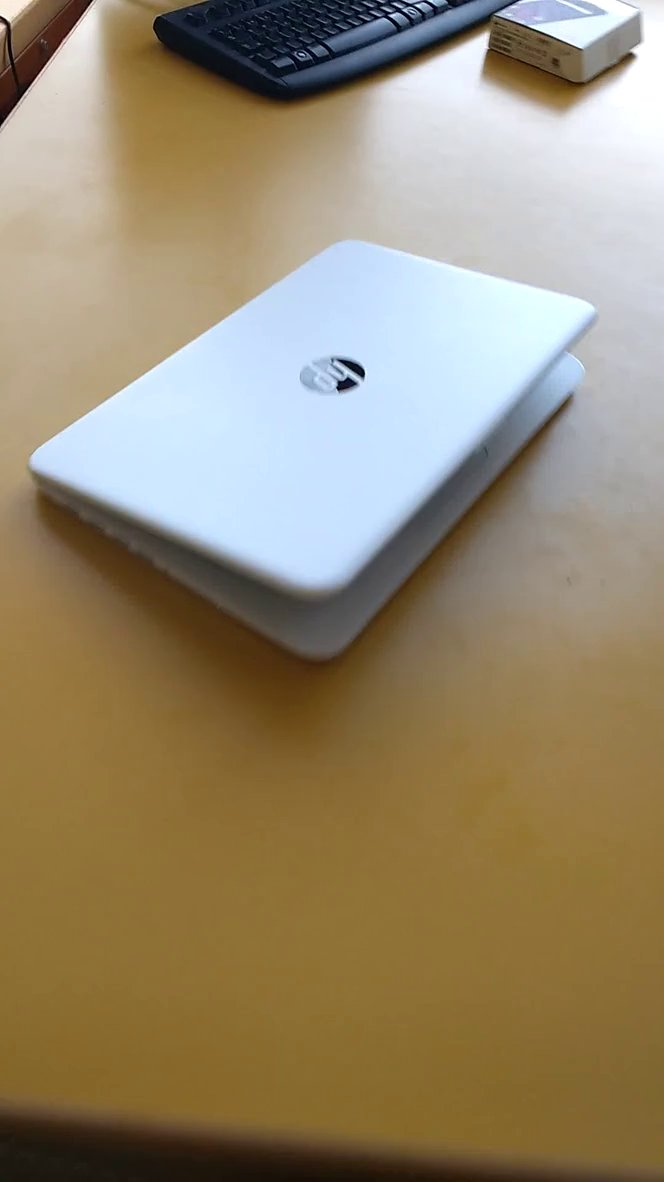laptop: (16, 234, 619, 687)
